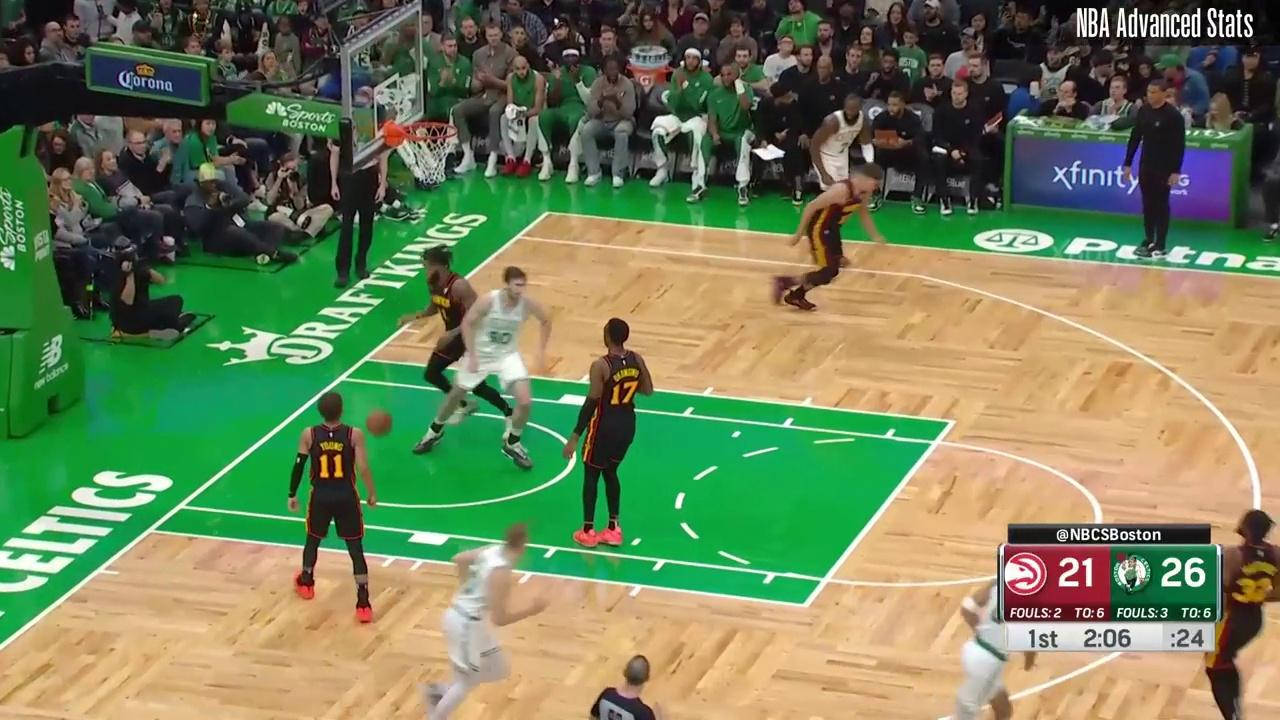b_dx: (540, 207, 556, 218)
free_adx: (943, 415, 960, 431)
free_asx: (796, 597, 811, 612)
free_bdx: (360, 354, 374, 366)
free_bsx: (143, 524, 156, 540)
referee: (328, 105, 389, 287), (584, 651, 663, 719)
team: (414, 267, 552, 470), (422, 521, 547, 719), (956, 575, 1036, 720), (811, 91, 876, 269)
team1: (399, 243, 520, 442), (564, 316, 654, 546), (289, 389, 375, 623), (769, 163, 889, 312)
timer: (1078, 623, 1145, 651)
